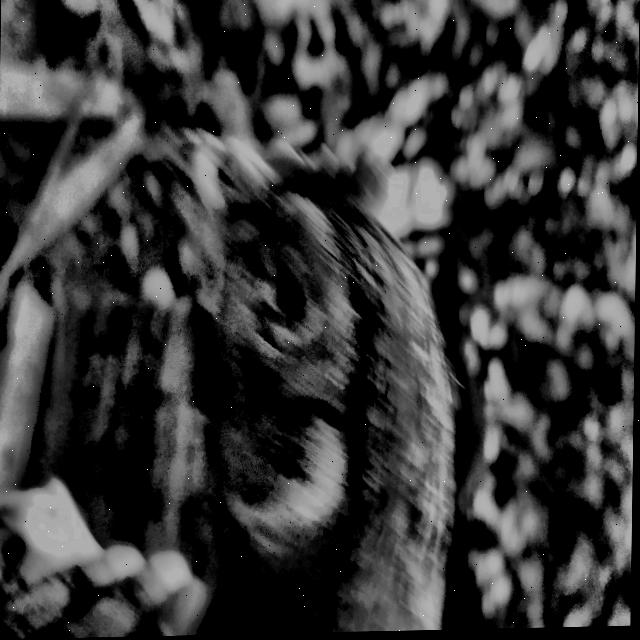Coryza: (128, 90, 496, 566)
